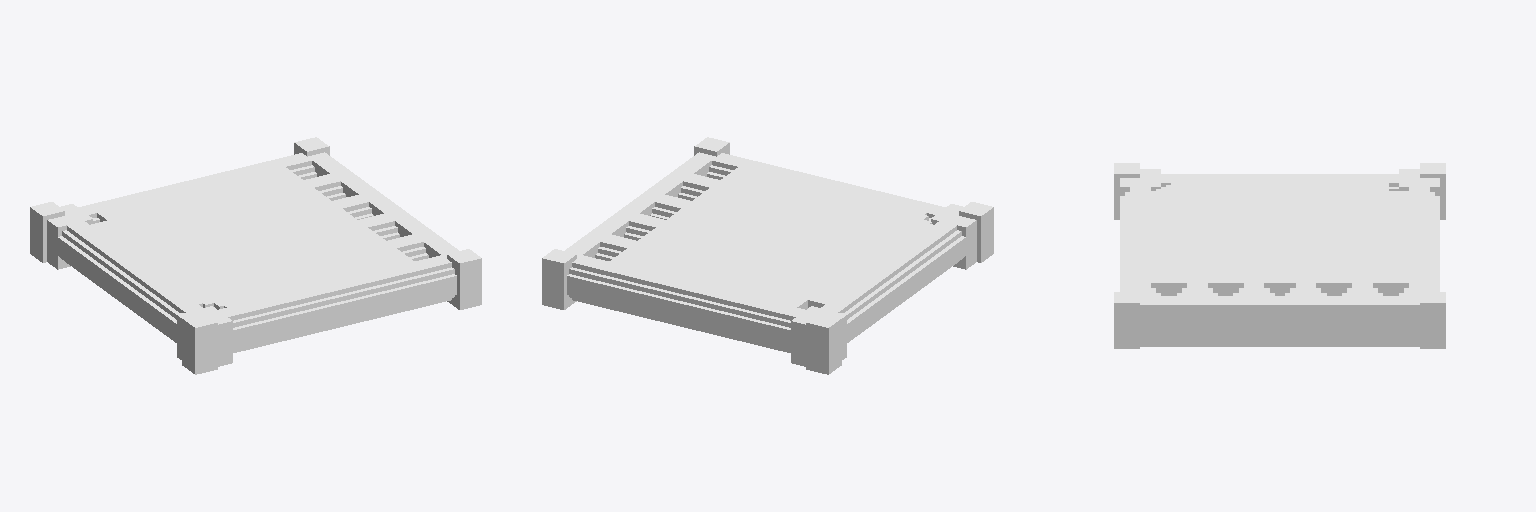
The model's file is ConveyorT3.obj.
3 views of the same model, side by side, from view 1: azimuth 30°, elevation 25°; view 2: azimuth 150°, elevation 25°; view 3: azimuth 270°, elevation 25° (orthographic).
Size of the model in its own units: 64 by 10 by 64.